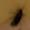cockroach: (10, 8, 24, 27)
